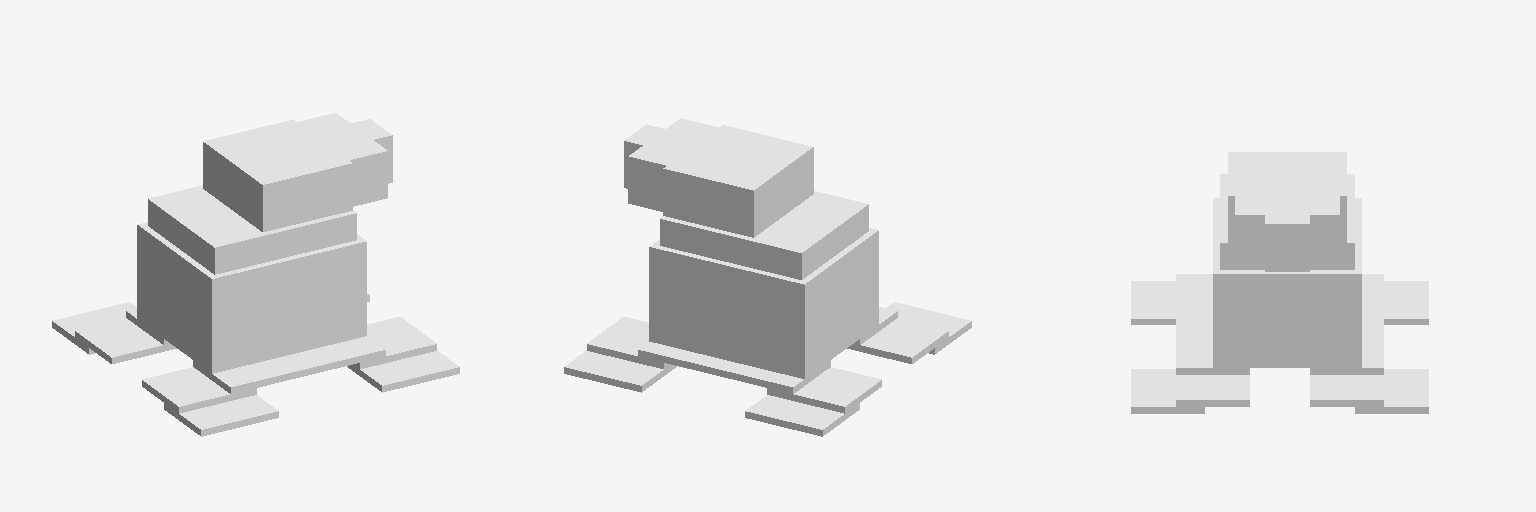
The model's file is turel.obj.
The picture shows the model from 3 angles: view 1: azimuth 30°, elevation 25°; view 2: azimuth 150°, elevation 25°; view 3: azimuth 270°, elevation 25°; orthographic projection.
Visible parts, largest first — view 1: object 1; view 2: object 1; view 3: object 1.
Boxes of the visible parts, box(x1,y1,x2,y2) form: object 1: box(52, 113, 459, 436); object 1: box(564, 118, 971, 436); object 1: box(1131, 152, 1428, 413).
Bounding box in the file's own units: 4 × 2.8 × 4.